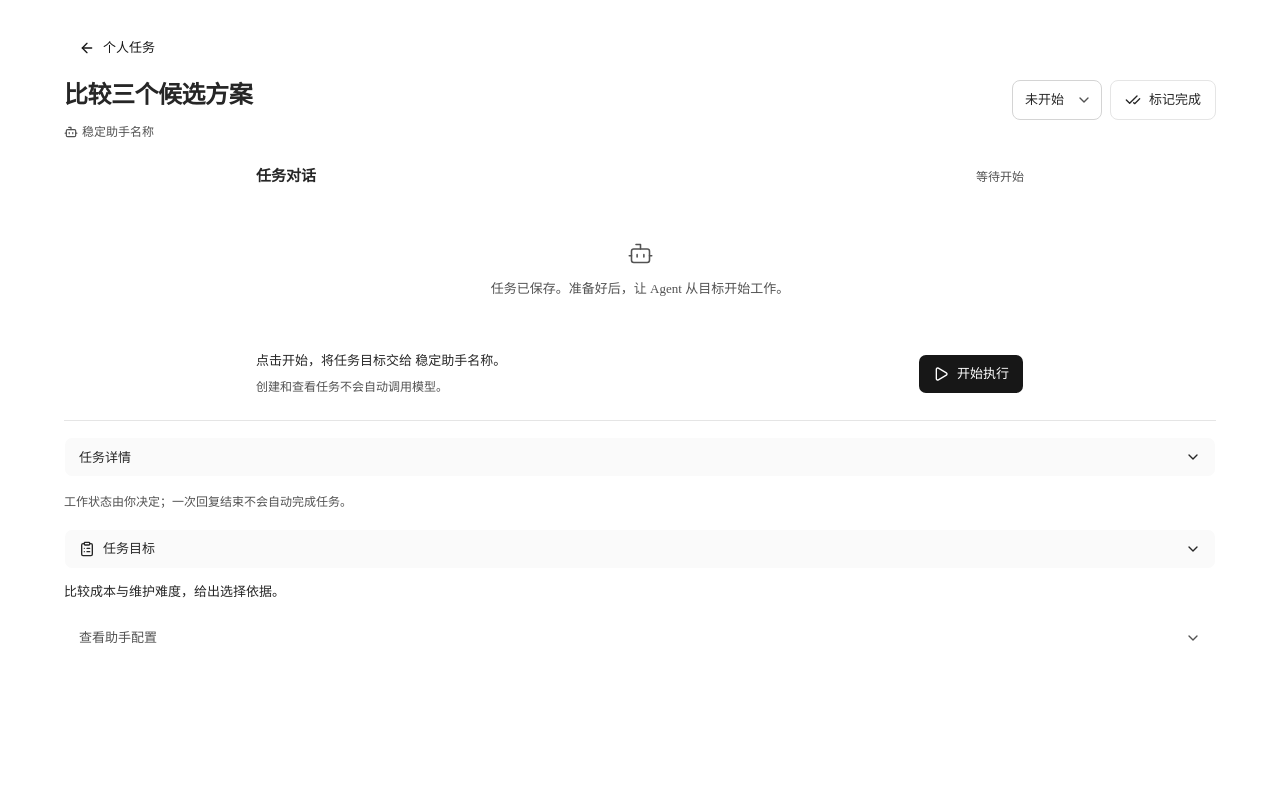
Scenario: shadcn task controls preserve task behavior › keeps ordinary task controls without the removed project grouping or project reads
The width and height of the screenshot is (1280, 800).
Expected: the button "任务目标" is shown, [64,529,1216,569]
Select "待补充" in the dropdown named "任务工作状态": (1057, 100) [1012,80,1102,120]
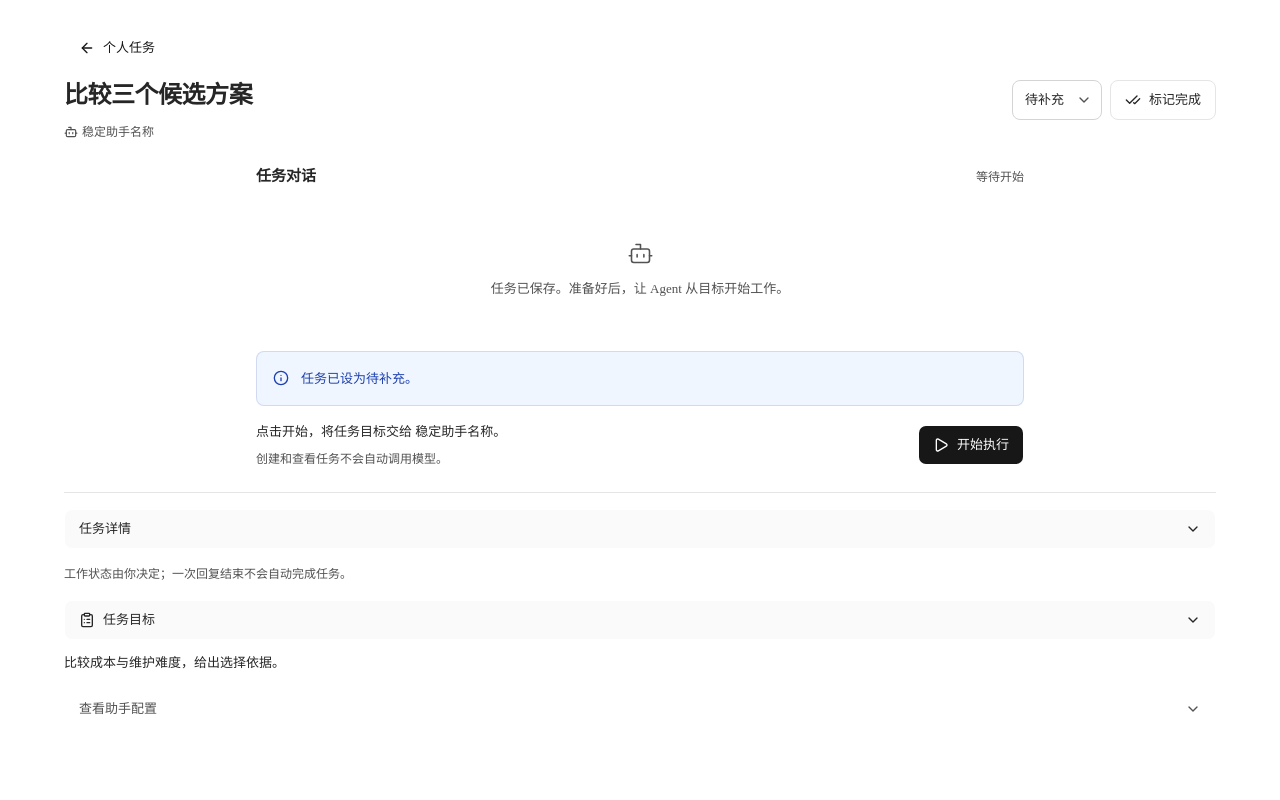
Click the button "任务目标": (129, 620) [64,600,1216,640]
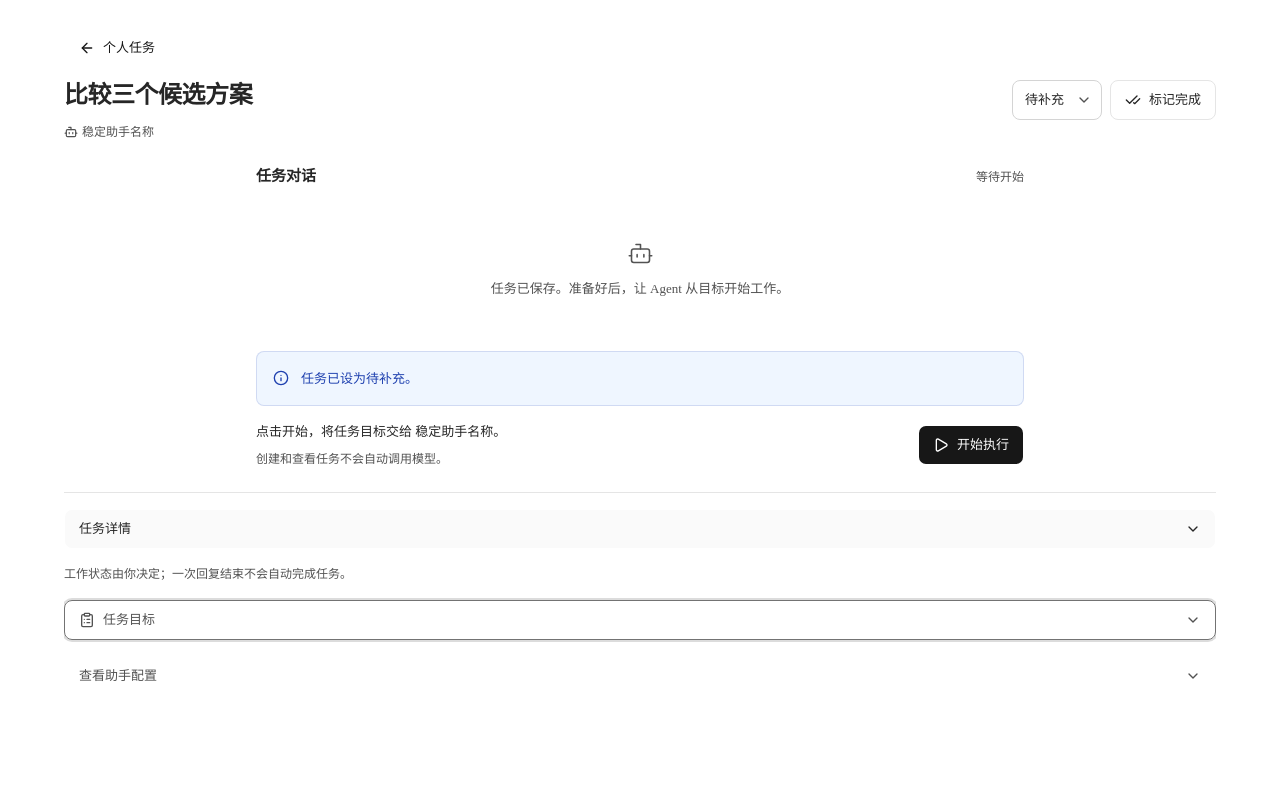
Result: the button "任务目标" is collapsed at [64,600,1216,640]
Click the button "查看助手配置": (118, 676) [64,656,1216,696]
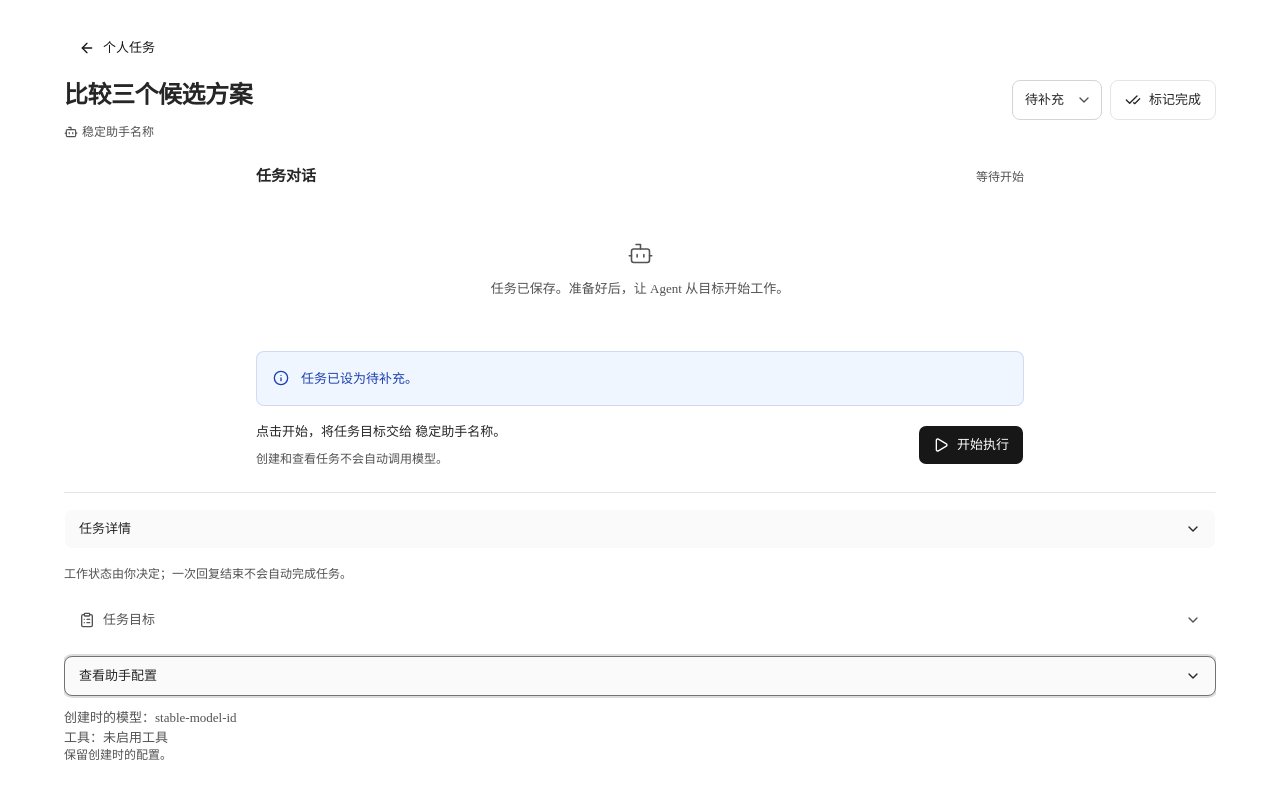
Result: the button "查看助手配置" is expanded at [64,656,1216,696]
Result: the text "保留创建时的配置。" is shown at [64,749,172,763]
